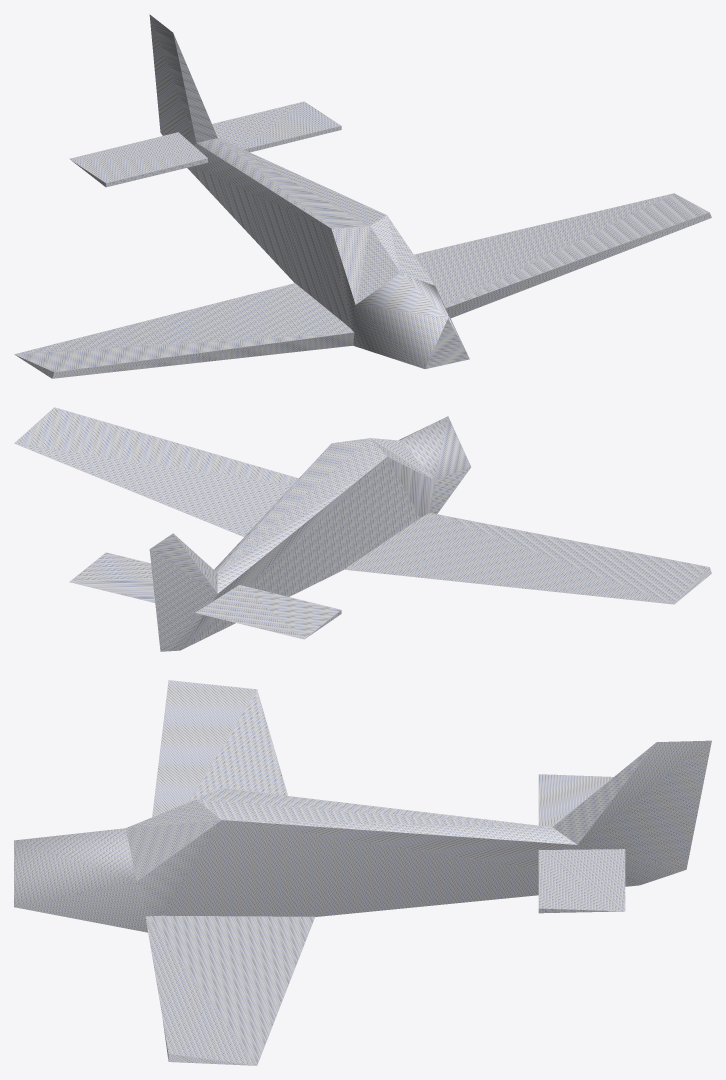
File: DR400_LYCOMING_LOD06.gltf
3 views of the same model, one above another, from view 1: azimuth 30°, elevation 25°; view 2: azimuth 150°, elevation 25°; view 3: azimuth 270°, elevation 25° (orthographic). The views are drawn at different scales.
Visible parts, largest first — view 1: fuselage; view 2: fuselage; view 3: fuselage.
Part boxes in pixels (x1=…): fuselage: x1=14, y1=14, x2=711, y2=378; fuselage: x1=14, y1=407, x2=711, y2=651; fuselage: x1=14, y1=680, x2=711, y2=1065.
Bounding box in the file's own units: 8.62 × 1.83 × 6.76.
